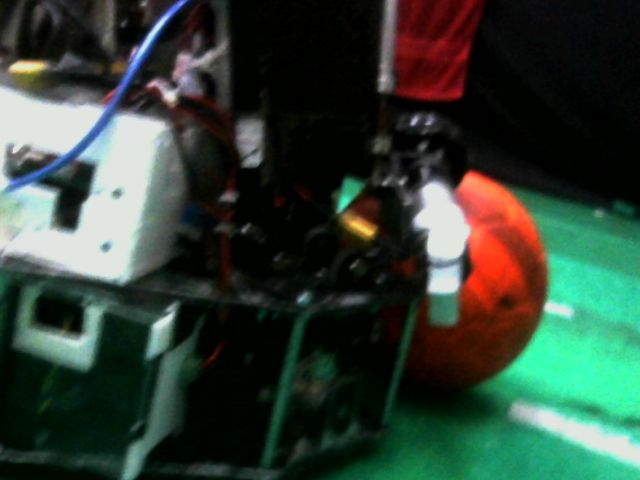ball: (396, 156, 561, 404)
